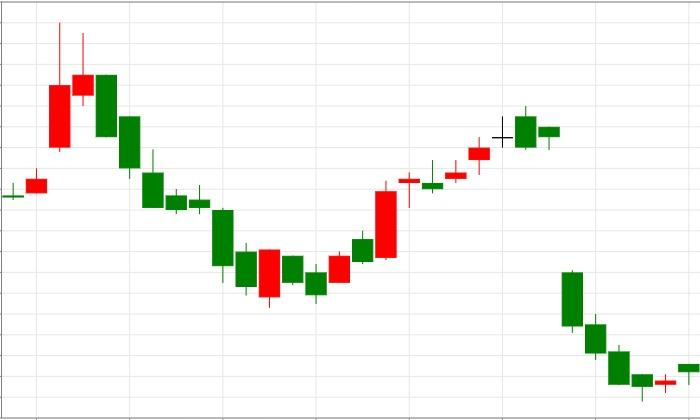shooting_star_fall: (3, 22, 94, 200)
